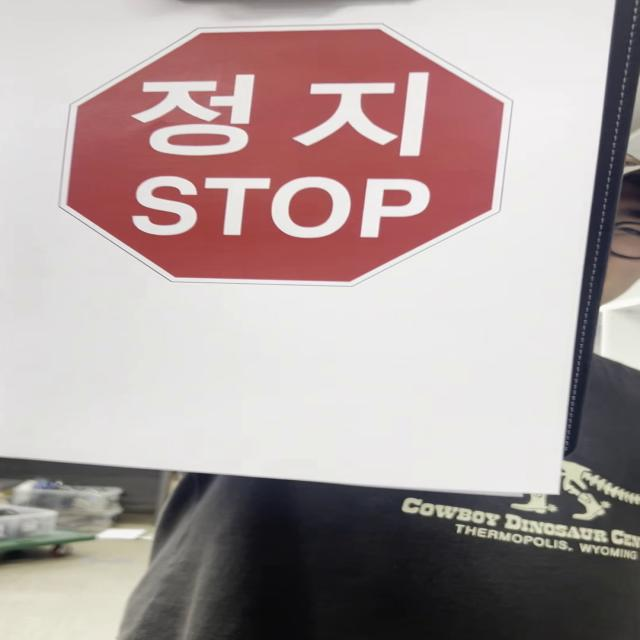stop: (56, 28, 504, 288)
